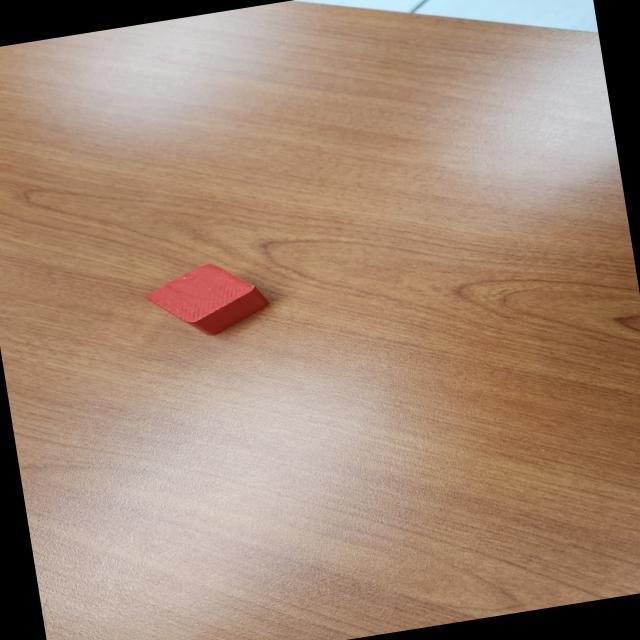red: (140, 253, 274, 348)
